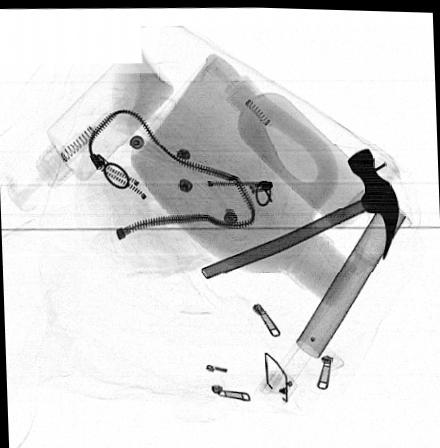Hammer: (200, 143, 399, 278)
